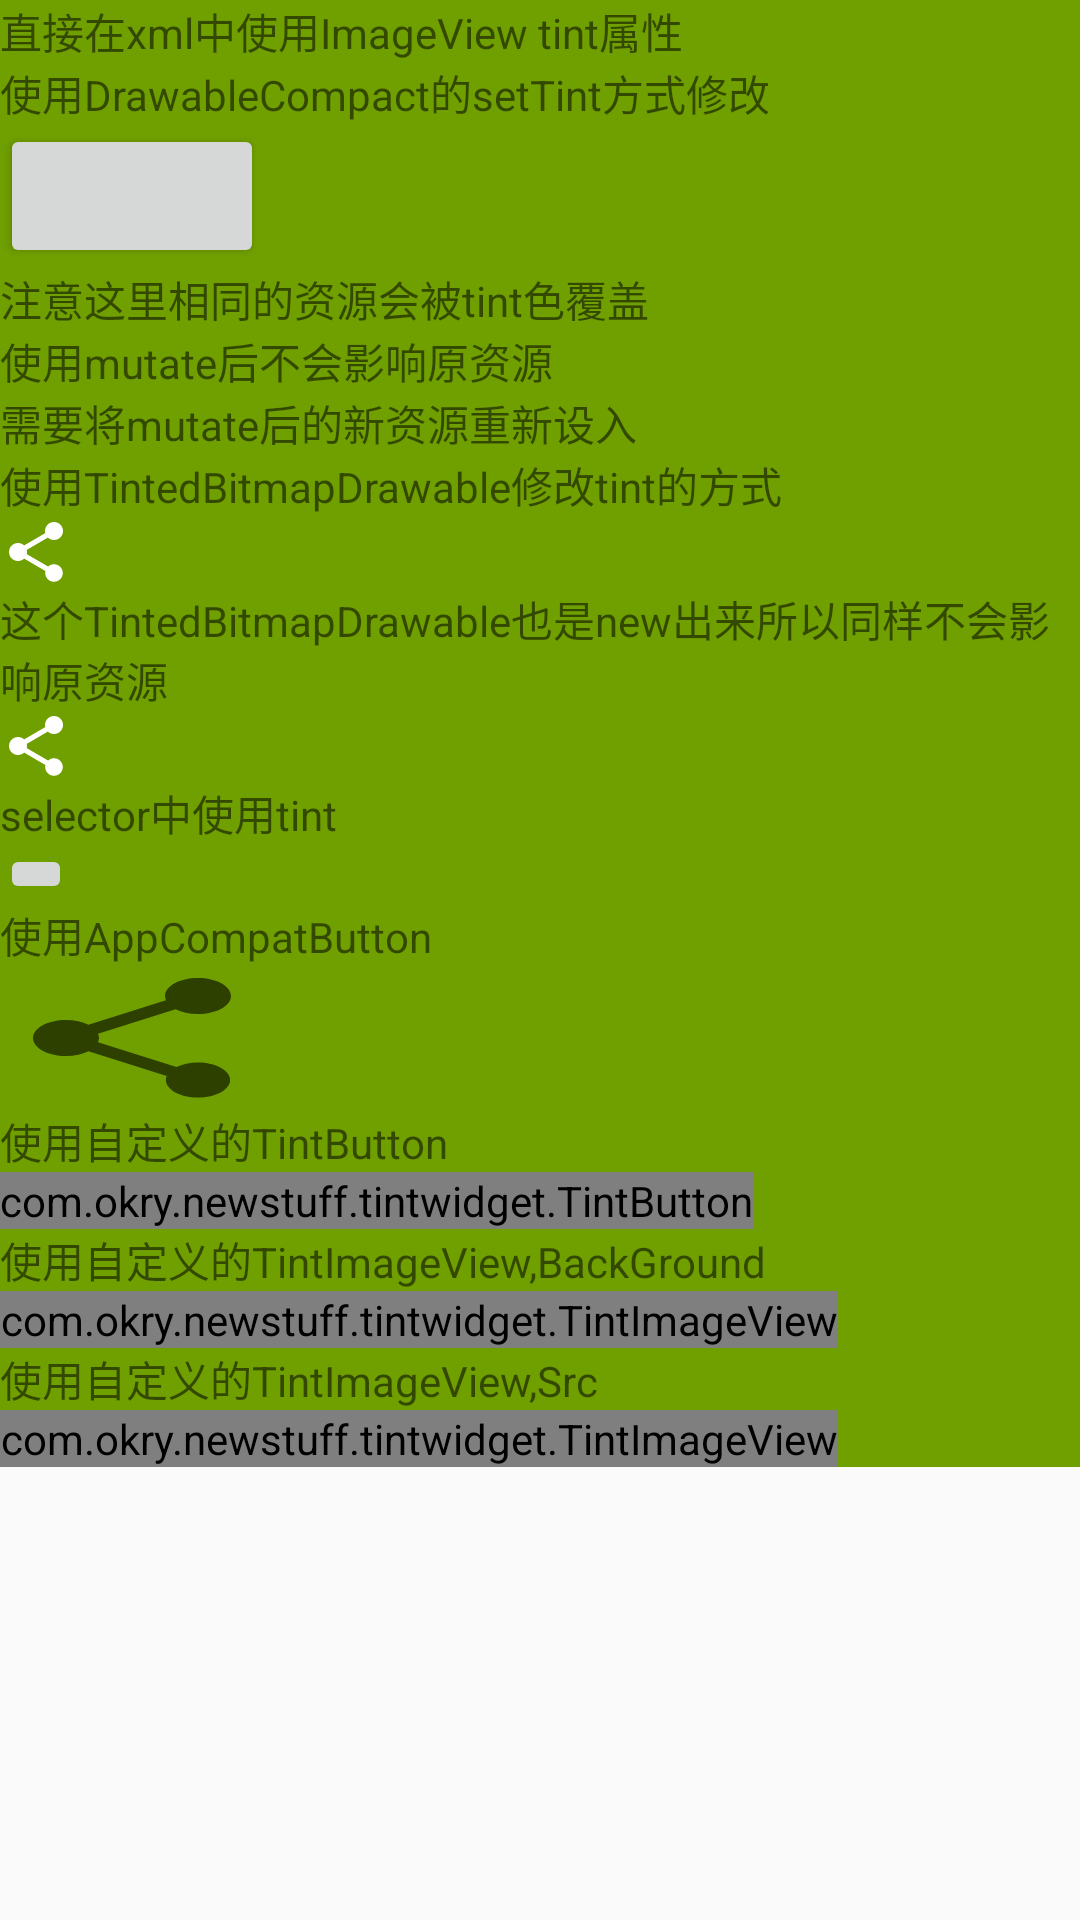

Screen size 1080w x 1920h. Icon name, then its box in pixels as {"x1": x1, "y1": y1, "x2": x2, "y2": y2}:
share: {"x1": 9, "y1": 522, "x2": 63, "y2": 582}, {"x1": 9, "y1": 716, "x2": 63, "y2": 776}, {"x1": 33, "y1": 978, "x2": 231, "y2": 1098}
